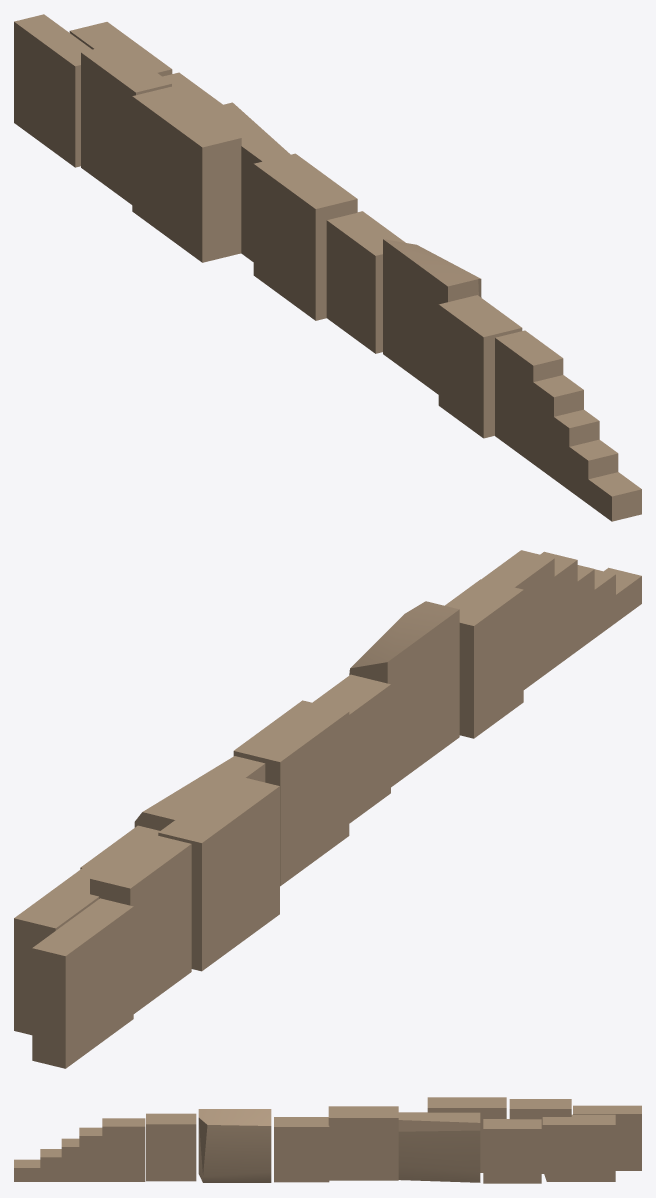
File: ston wall1.FBX
3 views of the same model, one above another, from view 1: azimuth 30°, elevation 25°; view 2: azimuth 150°, elevation 25°; view 3: azimuth 270°, elevation 25° (orthographic). The views are drawn at different scales.
Parts seen in each view (by area): view 1: ston wall002; view 2: ston wall002; view 3: ston wall002.
Boxes of the visible parts, x1,y1,x2,y2 form: ston wall002: [14, 14, 641, 521]; ston wall002: [14, 550, 641, 1068]; ston wall002: [14, 1097, 641, 1183].
Bounding box in the file's own units: 5.11 × 6.73 × 59.01.
